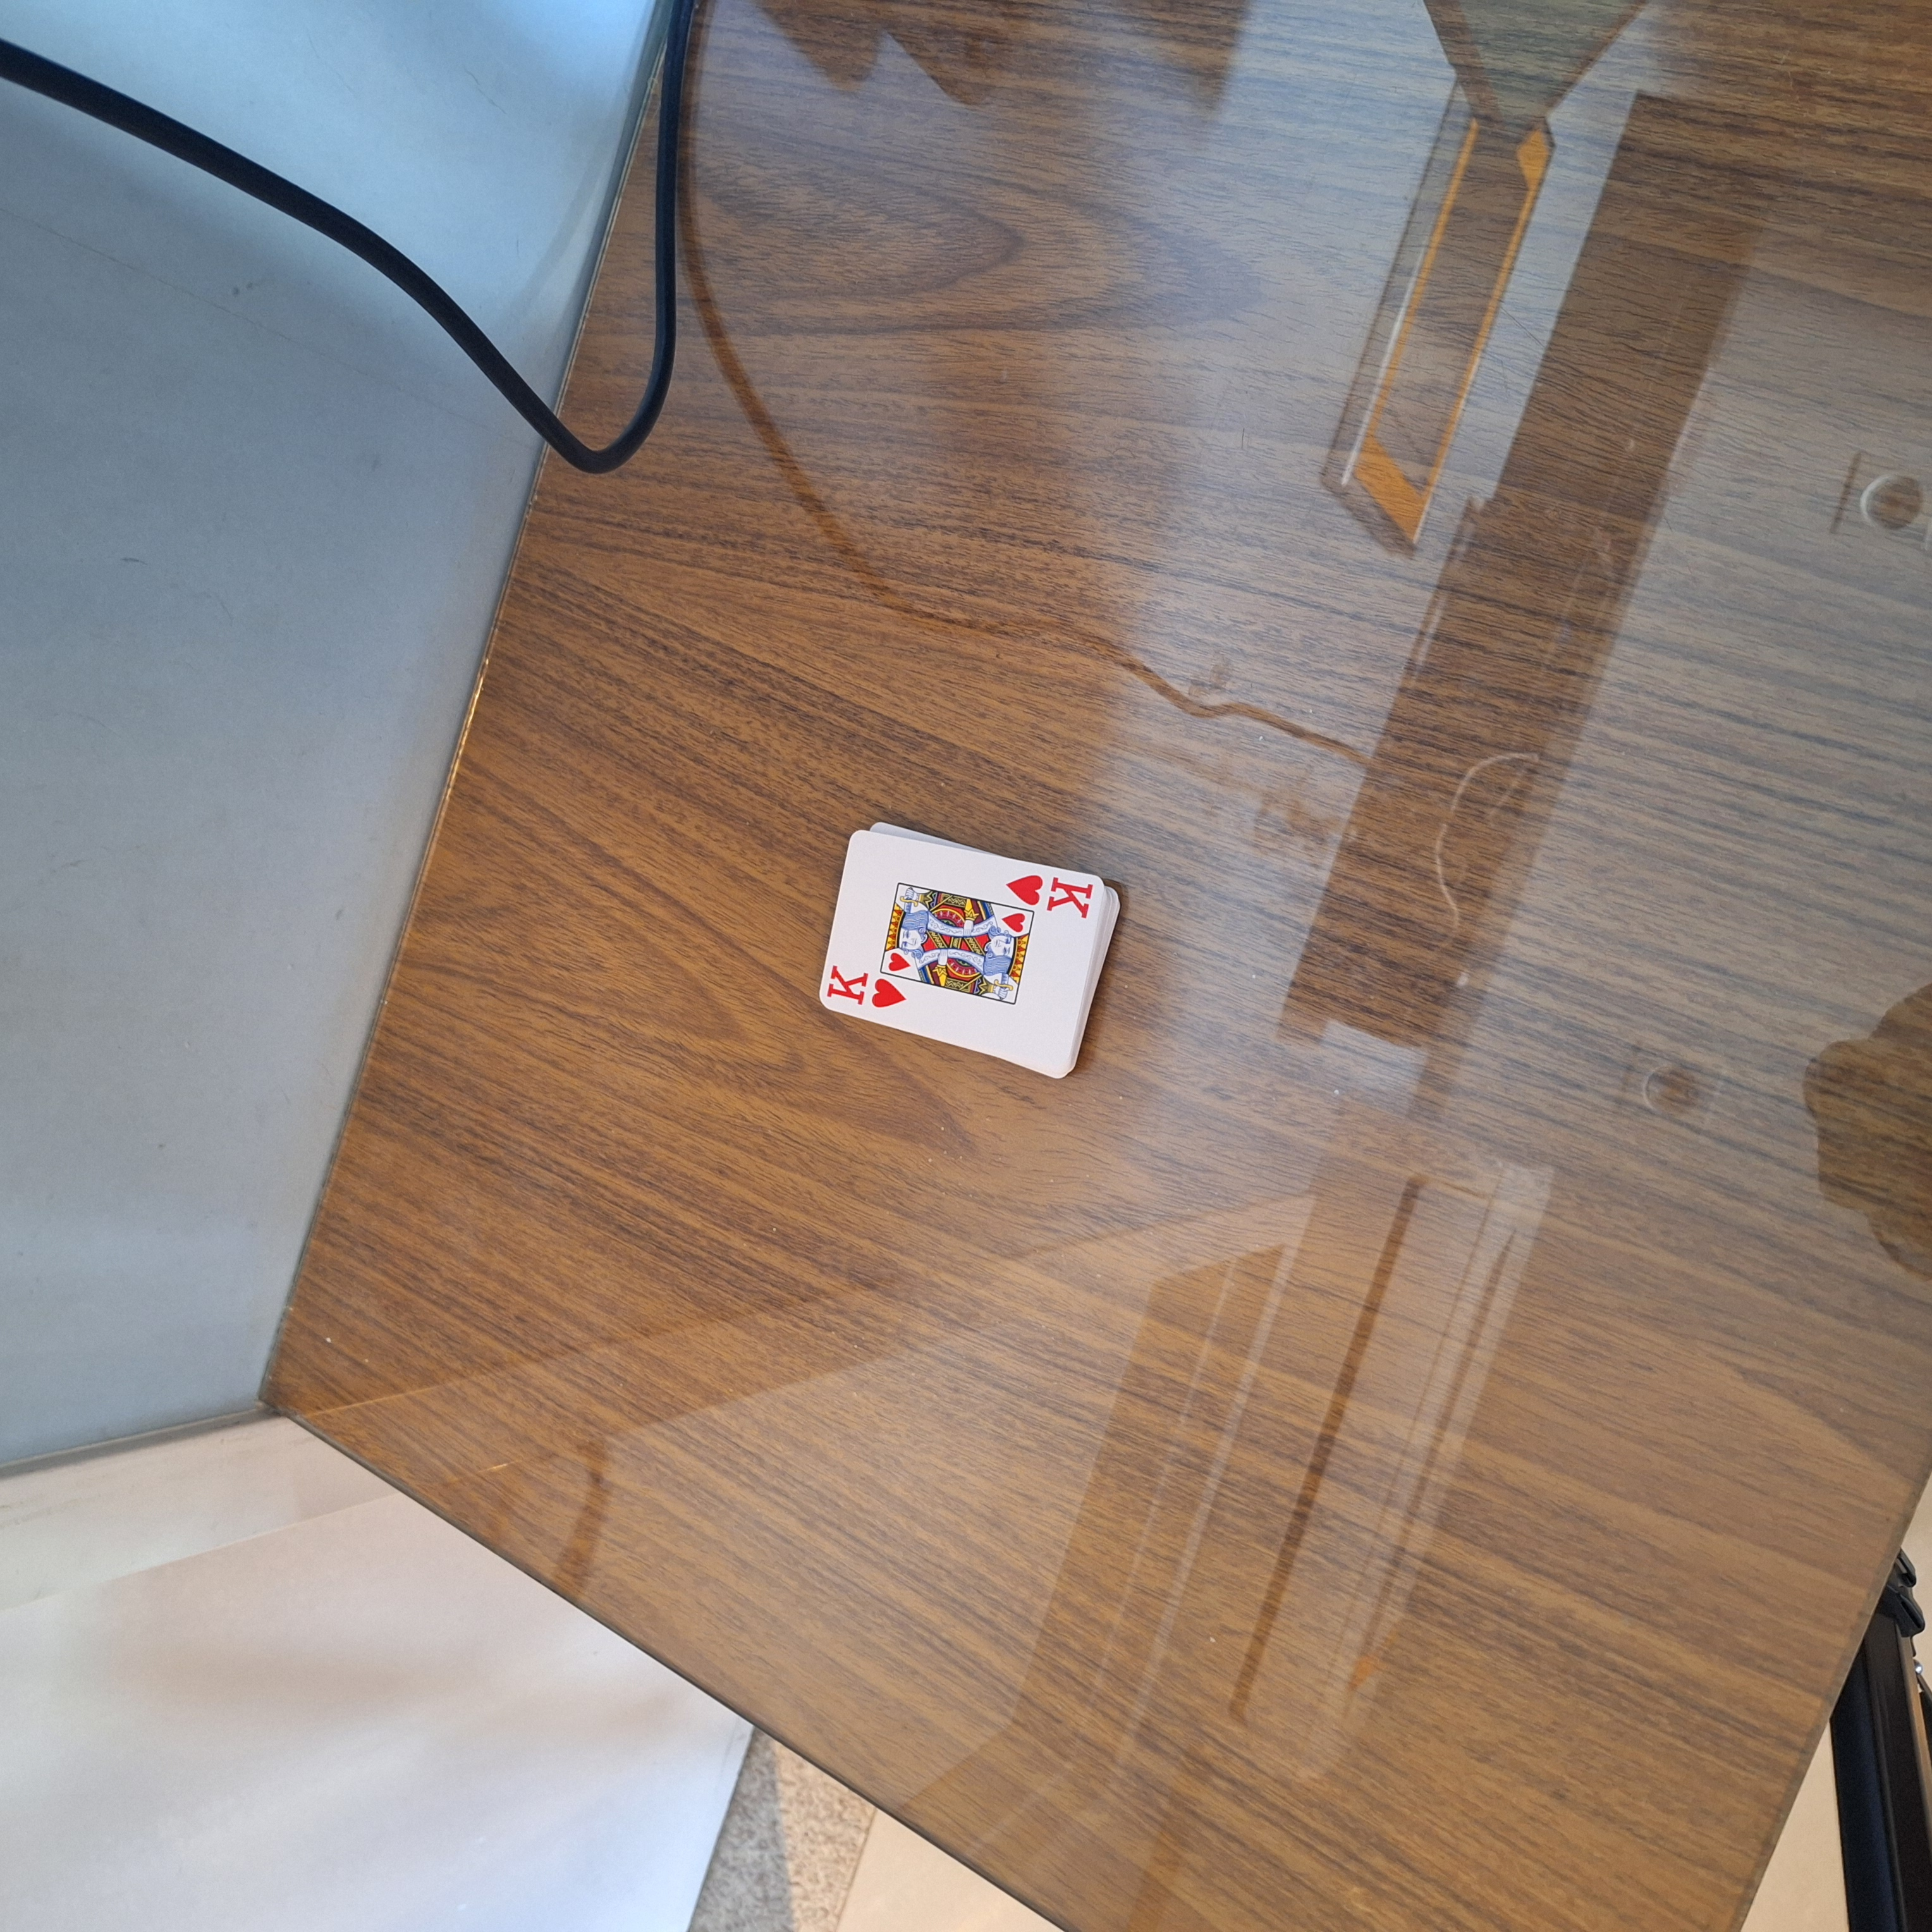KC: (1000, 867, 1106, 924), (824, 964, 908, 1017)
